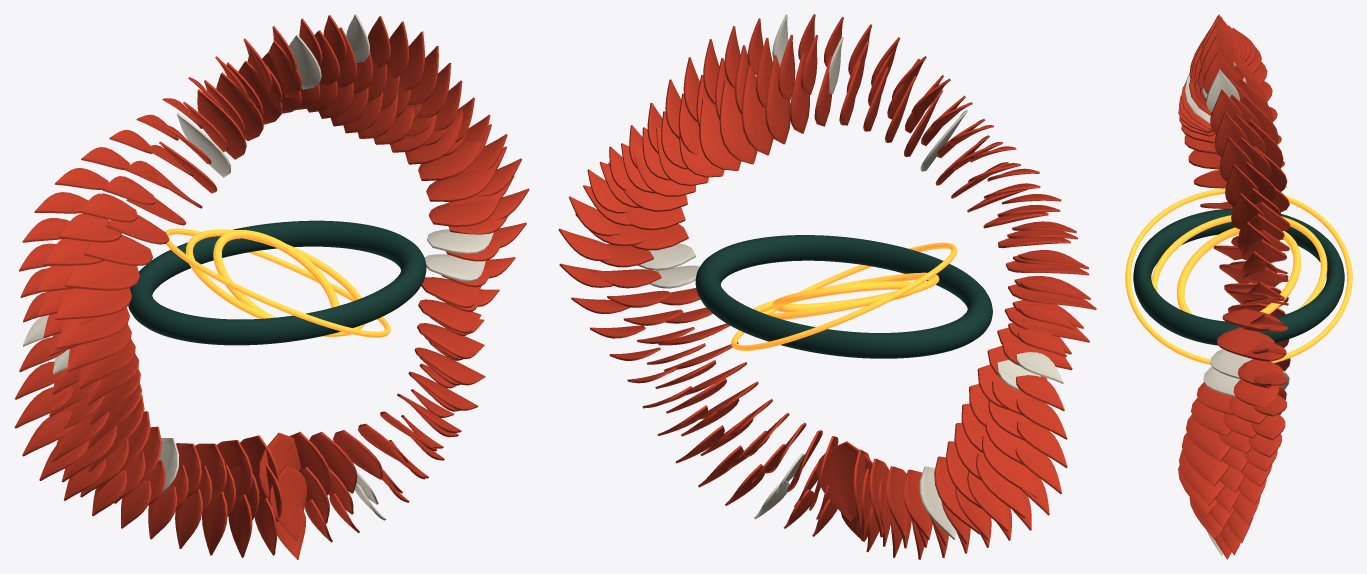
The model's file is gravity-choir.glb.
3 renders of one model, left to right at view 1: azimuth 30°, elevation 25°; view 2: azimuth 150°, elevation 25°; view 3: azimuth 270°, elevation 25°, orthographic. The views are drawn at different scales.
Parts seen in each view (by area): view 1: OBSIDIAN_SPINE, CORE_RING_0, CORE_RING_2, PETAL_L0_024, CORE_RING_1, PETAL_L0_023, PETAL_L1_045, PETAL_L0_025, PETAL_L0_002, PETAL_L0_003, PETAL_L0_001, PETAL_L0_022 (+75 smaller); view 2: OBSIDIAN_SPINE, CORE_RING_0, PETAL_L0_039, CORE_RING_2, CORE_RING_1, PETAL_L0_008, PETAL_L0_009, PETAL_L0_007, PETAL_L0_010, PETAL_L1_035, PETAL_L1_036, PETAL_L0_034 (+46 smaller); view 3: OBSIDIAN_SPINE, CORE_RING_0, CORE_RING_2, CORE_RING_1, PETAL_L0_047, PETAL_L0_048, PETAL_L0_001, PETAL_L0_046, PETAL_L1_059, PETAL_L0_049, PETAL_L2_008, PETAL_L2_007 (+57 smaller).
Boxes of the visible parts, box(x1,y1,x2,y2) form: OBSIDIAN_SPINE: box(128, 220, 426, 345); CORE_RING_0: box(165, 228, 390, 337); CORE_RING_2: box(213, 230, 339, 317); PETAL_L0_024: box(55, 288, 132, 319); CORE_RING_1: box(185, 229, 364, 336); PETAL_L0_023: box(64, 260, 139, 290); PETAL_L1_045: box(269, 466, 306, 540); PETAL_L0_025: box(57, 307, 129, 349); PETAL_L0_002: box(426, 158, 499, 201); PETAL_L0_003: box(418, 129, 487, 180); PETAL_L0_001: box(428, 199, 499, 226); PETAL_L0_022: box(83, 234, 152, 265); OBSIDIAN_SPINE: box(695, 235, 992, 358); CORE_RING_0: box(731, 242, 957, 350); PETAL_L0_039: box(816, 441, 872, 521); CORE_RING_2: box(772, 281, 911, 312); CORE_RING_1: box(753, 272, 939, 319); PETAL_L0_008: box(719, 80, 757, 164); PETAL_L0_009: box(741, 65, 773, 155); PETAL_L0_007: box(699, 98, 741, 170); PETAL_L0_010: box(765, 55, 790, 144); PETAL_L1_035: box(982, 436, 1036, 497); PETAL_L1_036: box(976, 453, 1025, 518); PETAL_L0_034: box(919, 466, 956, 539); OBSIDIAN_SPINE: box(1133, 208, 1344, 345); CORE_RING_0: box(1125, 188, 1352, 364); CORE_RING_2: box(1176, 227, 1301, 314); CORE_RING_1: box(1151, 215, 1327, 309); PETAL_L0_047: box(1182, 432, 1229, 486); PETAL_L0_048: box(1186, 414, 1231, 461); PETAL_L0_001: box(1217, 327, 1274, 359); PETAL_L0_046: box(1179, 449, 1225, 505); PETAL_L1_059: box(1233, 379, 1279, 407); PETAL_L0_049: box(1191, 397, 1231, 436); PETAL_L2_008: box(1219, 136, 1253, 181); PETAL_L2_007: box(1225, 164, 1258, 206).
Bounding box in the file's own units: 7.05 × 6.91 × 2.91.
